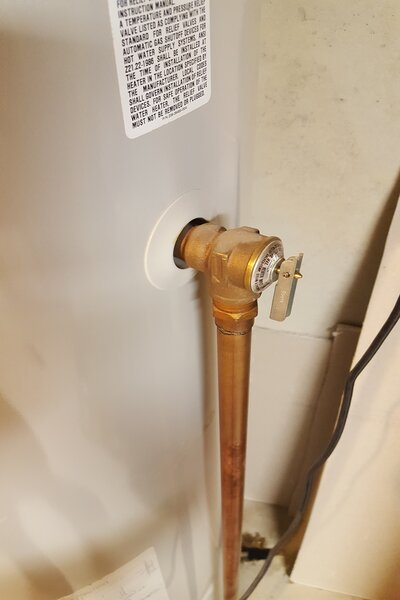valve: (170, 215, 306, 355)
